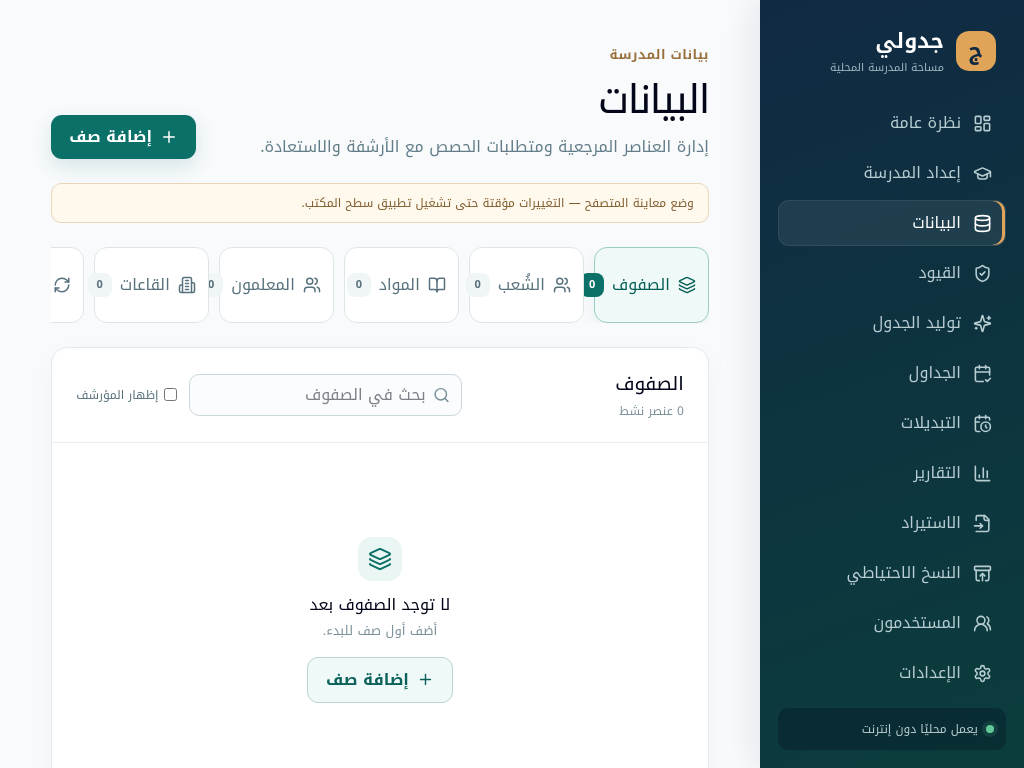
Test: creates and archives a grade in browser preview mode
Step 1. Click the 1st button "إضافة صف" → (124, 137), box [51,115,196,159]
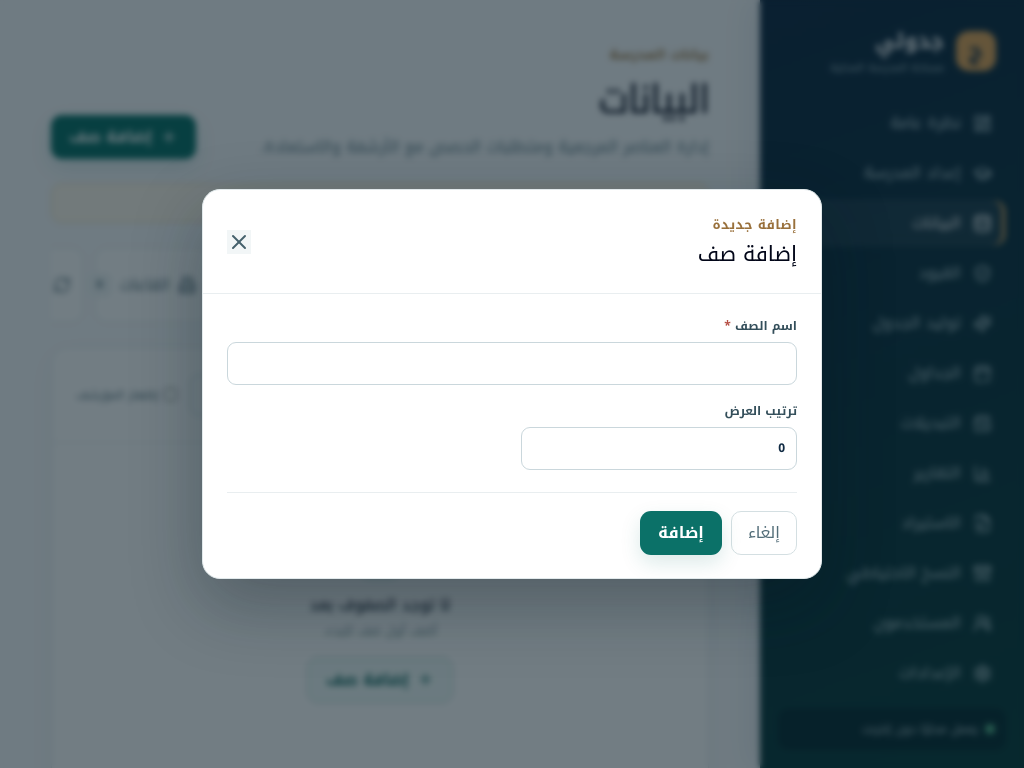
Step 2. Type "الصف الأول" into the field labelled "اسم الصف *" → (512, 363), box [227,342,797,385]
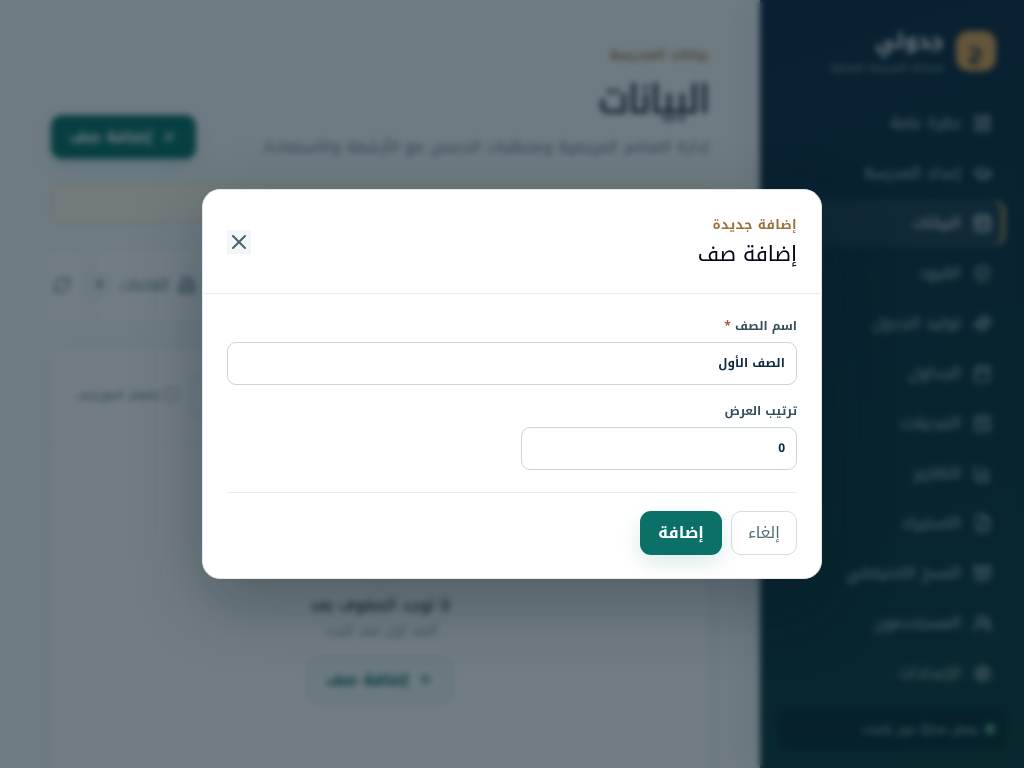
Step 3. Replace the text in the number field labelled "ترتيب العرض" with "1" → (659, 448), box [520,427,797,470]
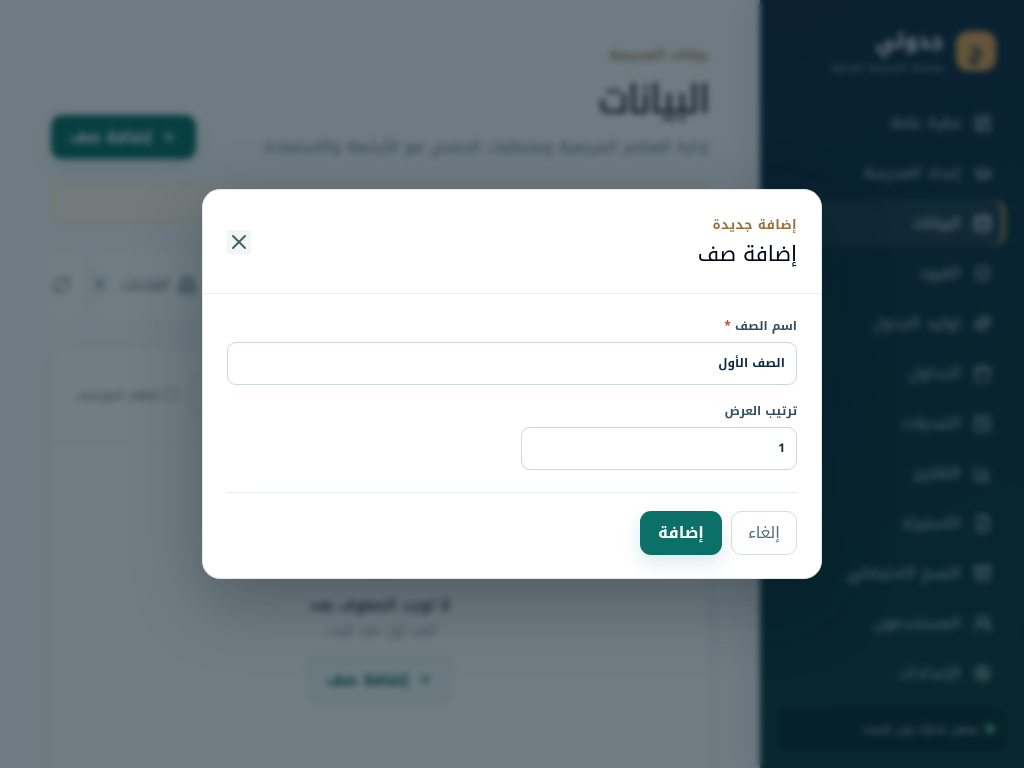
Step 4. Click the button "إضافة" → (681, 533), box [640,511,722,555]
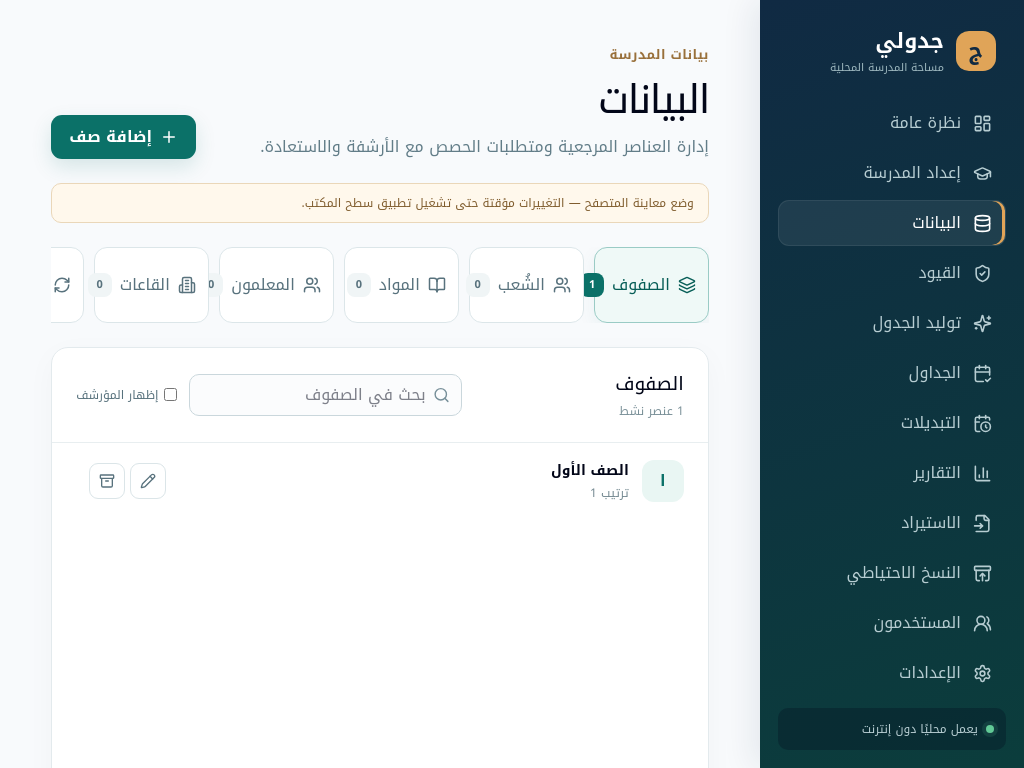
Result: the text "الصف الأول" is shown at [551,456,629,484]
Step 5. Click the button named "أرشفة الصف الأول" → (107, 480), box [89,462,125,498]
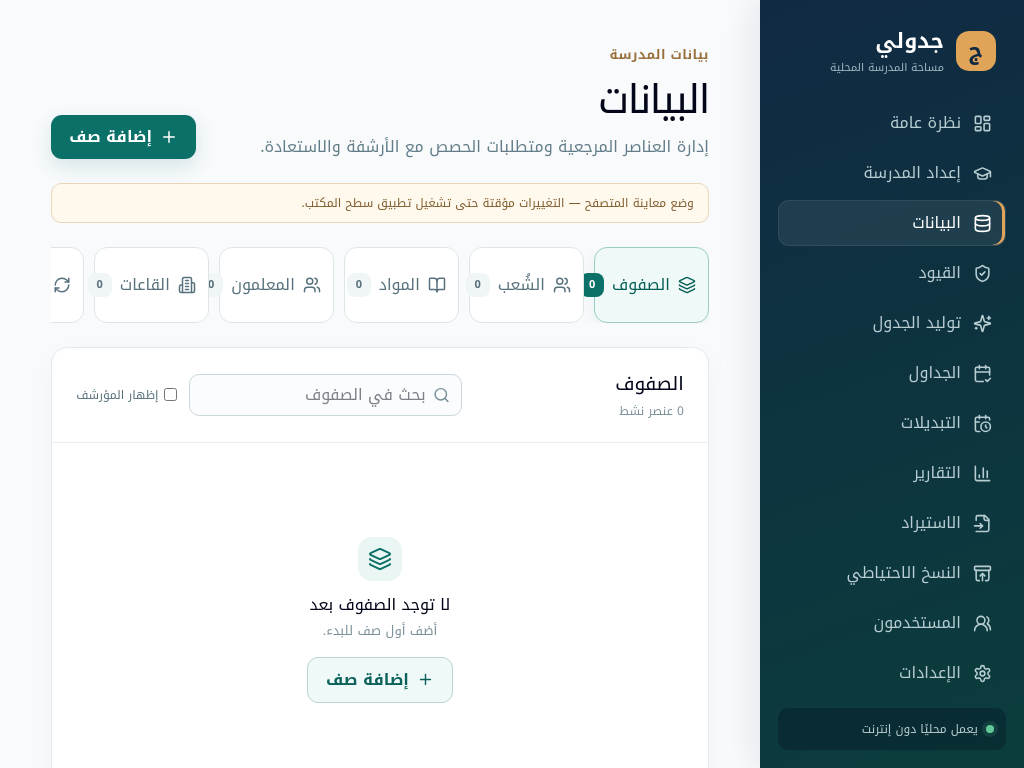
Result: the text "الصف الأول" is gone
